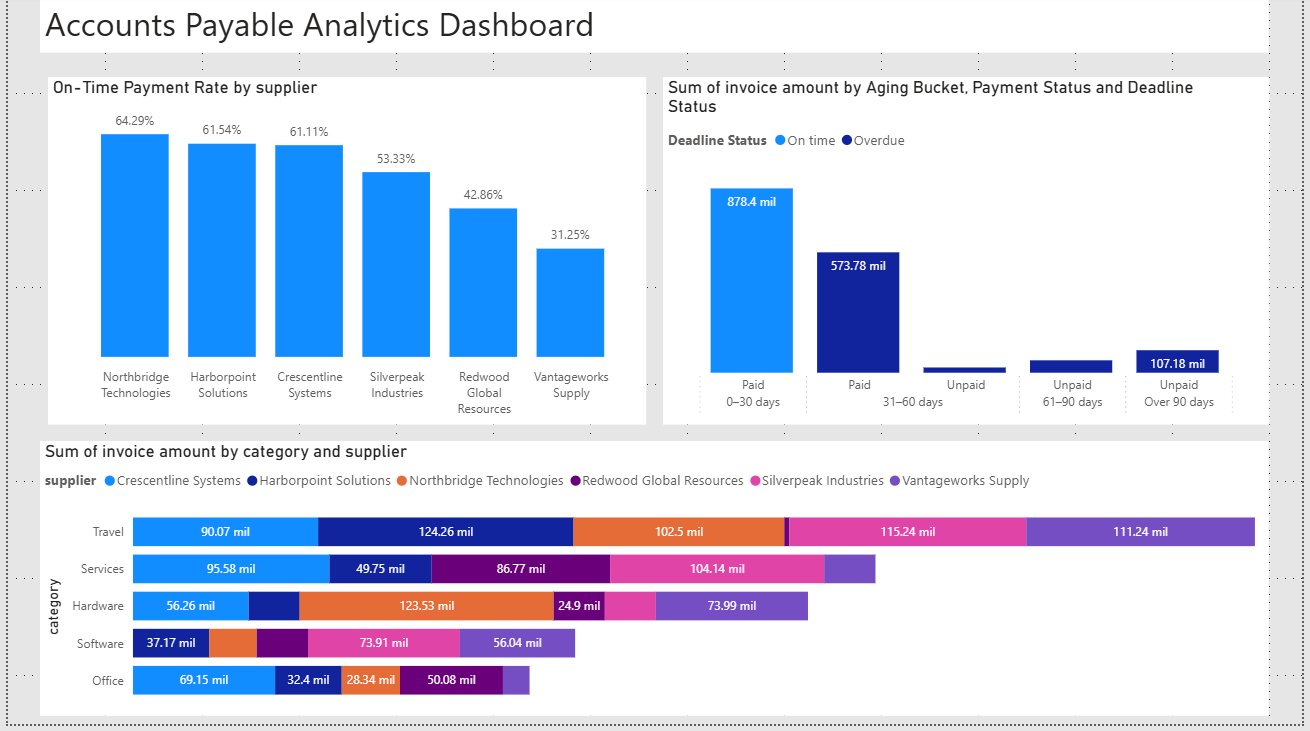

The dashboard page shown, as its layout file describes it:
{"tool":"powerbi","page":{"name":"AP","canvas":[1280,720],"ordinal":0},"visuals":[{"type":"columnChart","title":"Sum of invoice amount by Aging Bucket, Payment Status and Deadline Status","fields":{"Category":["ap_inv_sup.aging_bucket","ap_inv_sup.Payment Status"],"Y":["Sum(ap_inv_sup.invoice_amount)"],"Series":["ap_inv_sup.Deadline Status"]},"box":[648,80,600,344],"z":0},{"type":"barChart","title":"Sum of invoice amount by category and supplier","fields":{"Y":["Sum(ap_inv_sup.invoice_amount)"],"Category":["ap_inv_sup.category"],"Series":["ap_inv_sup.supplier"]},"box":[32,440,1216,272],"z":1000},{"type":"columnChart","title":"On-Time Payment Rate by supplier","fields":{"Category":["ap_inv_sup.supplier"],"Y":["ap_inv_sup.On-Time Payment Rate"]},"box":[40,80,592,344],"z":2000},{"type":"textbox","box":[32,0,1216,56],"z":3000}]}

Visuals, with their boxes in screenshot pixels (x1, y1, x2, y2), scaled from the page's 1280x720 canvas onto the 1310x731 screenshot:
"Sum of invoice amount by Aging Bucket, Payment Status and Deadline Status" columnChart: box=[663, 81, 1277, 430]
"Sum of invoice amount by category and supplier" barChart: box=[33, 447, 1277, 723]
"On-Time Payment Rate by supplier" columnChart: box=[41, 81, 647, 430]
textbox: box=[33, 0, 1277, 57]
